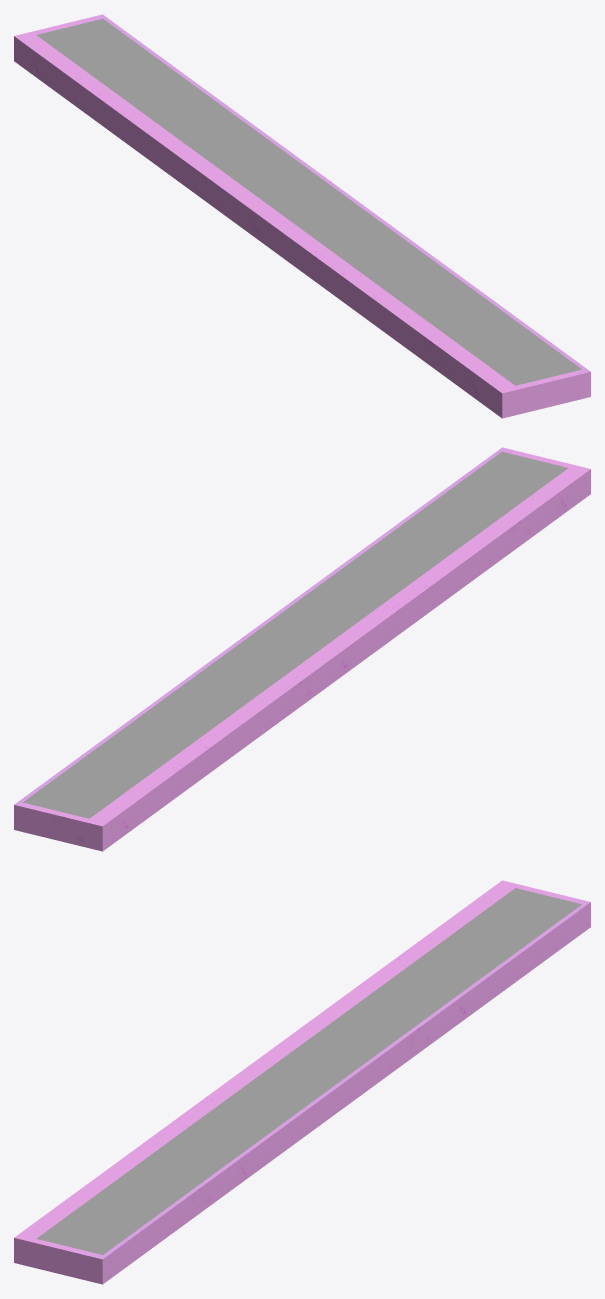
File: 300W1StepStairs_01_SM_Low.fbx
3 renders of one model, top to bottom at view 1: azimuth 30°, elevation 25°; view 2: azimuth 150°, elevation 25°; view 3: azimuth 330°, elevation 25°, orthographic.
Visible parts, largest first — view 1: Grate_Geo, StepGratingBase_Geo; view 2: Grate_Geo, StepGratingBase_Geo; view 3: Grate_Geo, StepGratingBase_Geo.
Boxes of the visible parts, <box> form: Grate_Geo: <box>36,18,581,385</box>; StepGratingBase_Geo: <box>14,14,590,418</box>; Grate_Geo: <box>23,451,568,818</box>; StepGratingBase_Geo: <box>14,447,590,851</box>; Grate_Geo: <box>36,888,581,1254</box>; StepGratingBase_Geo: <box>14,880,590,1284</box>.
Bounding box in the file's own units: 30 × 8.12 × 286.
2 materials, 1 textured.
